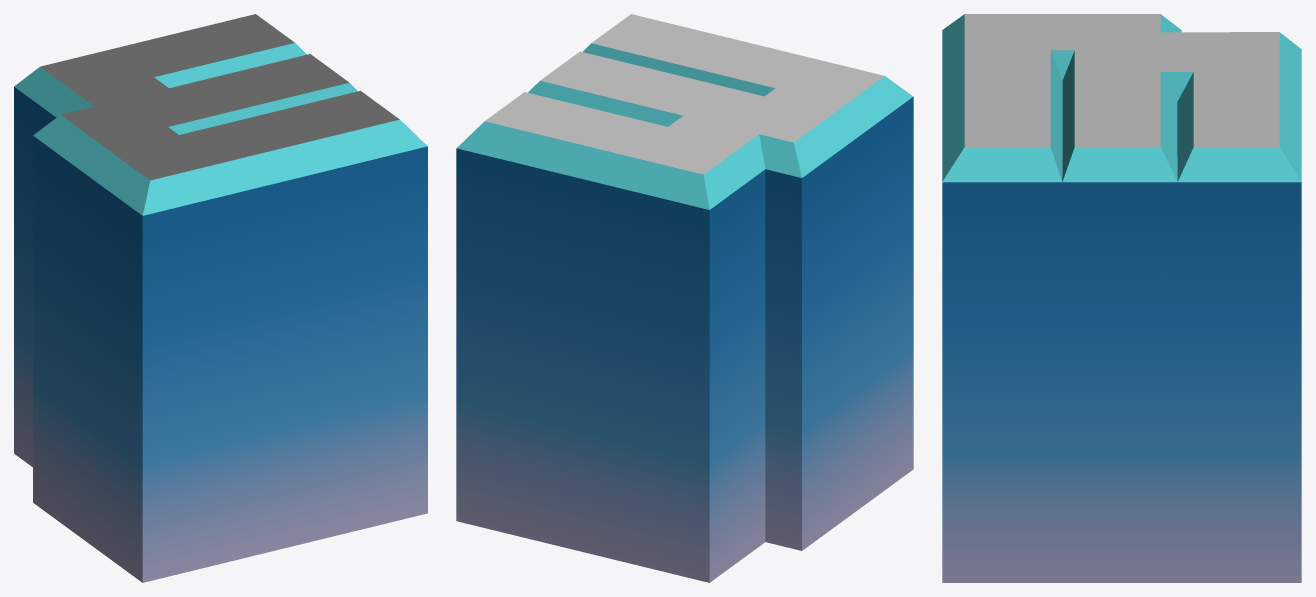
The picture shows the model from 3 angles, left to right: view 1: azimuth 30°, elevation 25°; view 2: azimuth 150°, elevation 25°; view 3: azimuth 270°, elevation 25°; orthographic projection. The views are drawn at different scales.
Parts seen in each view (by area): view 1: Joint_0_Object_0, Joint_0_Object_1; view 2: Joint_0_Object_0, Joint_0_Object_1; view 3: Joint_0_Object_0, Joint_0_Object_1.
Boxes of the visible parts, box(x1,y1,x2,y2) form: Joint_0_Object_0: box(14, 43, 427, 582); Joint_0_Object_1: box(40, 14, 399, 180); Joint_0_Object_0: box(456, 43, 913, 582); Joint_0_Object_1: box(485, 14, 884, 174); Joint_0_Object_0: box(942, 14, 1301, 582); Joint_0_Object_1: box(964, 14, 1279, 146).
Size of the model in its own units: 107 by 139 by 107.
